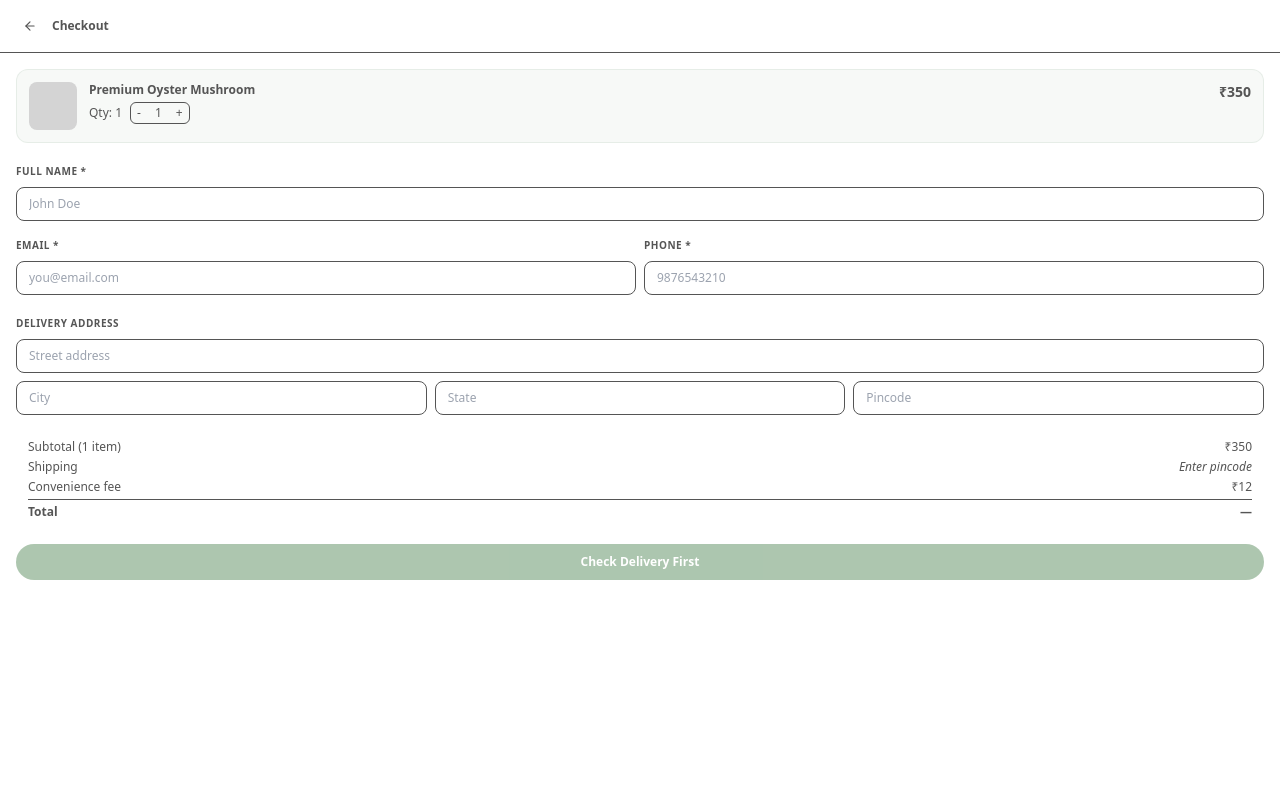
Test: ChatCheckout › Details Step › shows not deliverable message for unsupported pincode
The width and height of the screenshot is (1280, 800).
Type "999999" into the field with placeholder "Pincode". click: (1059, 398)
box: [853,381,1264,415]
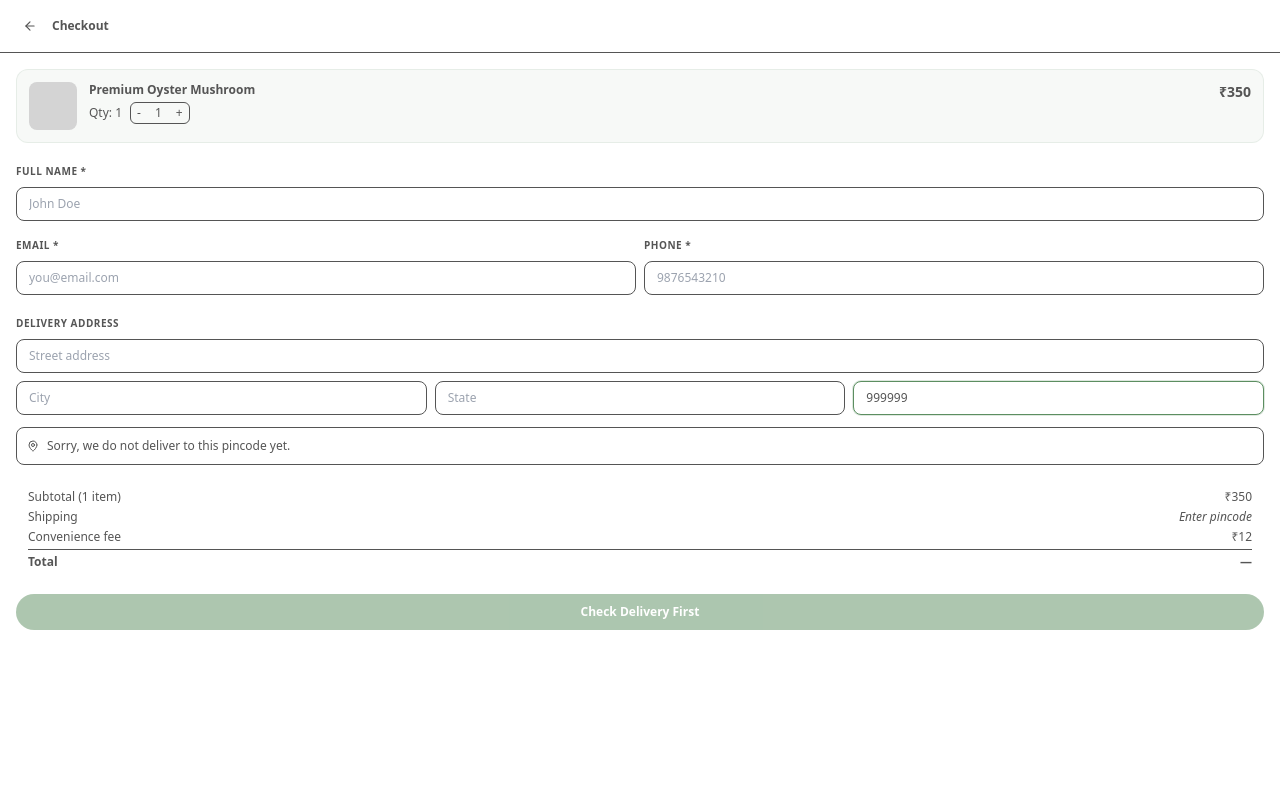
expect the text "Sorry, we do not deliver to this pincode yet." is shown: met, box [16,427,1264,465]
